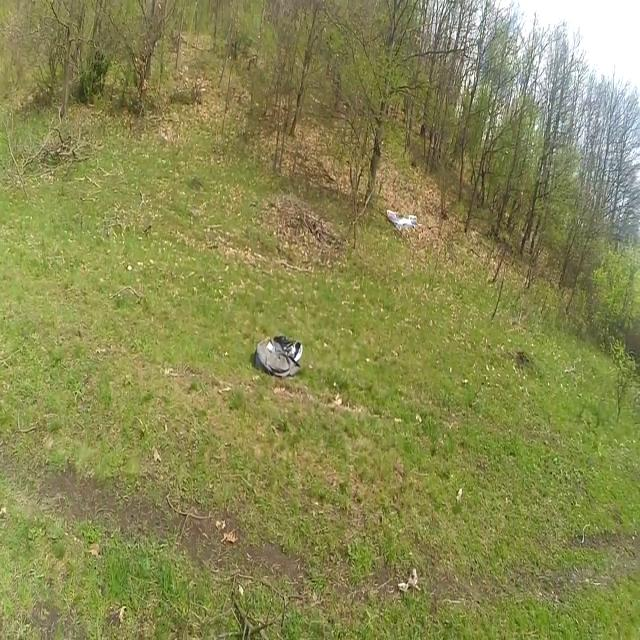drones: (376, 196, 425, 240)
